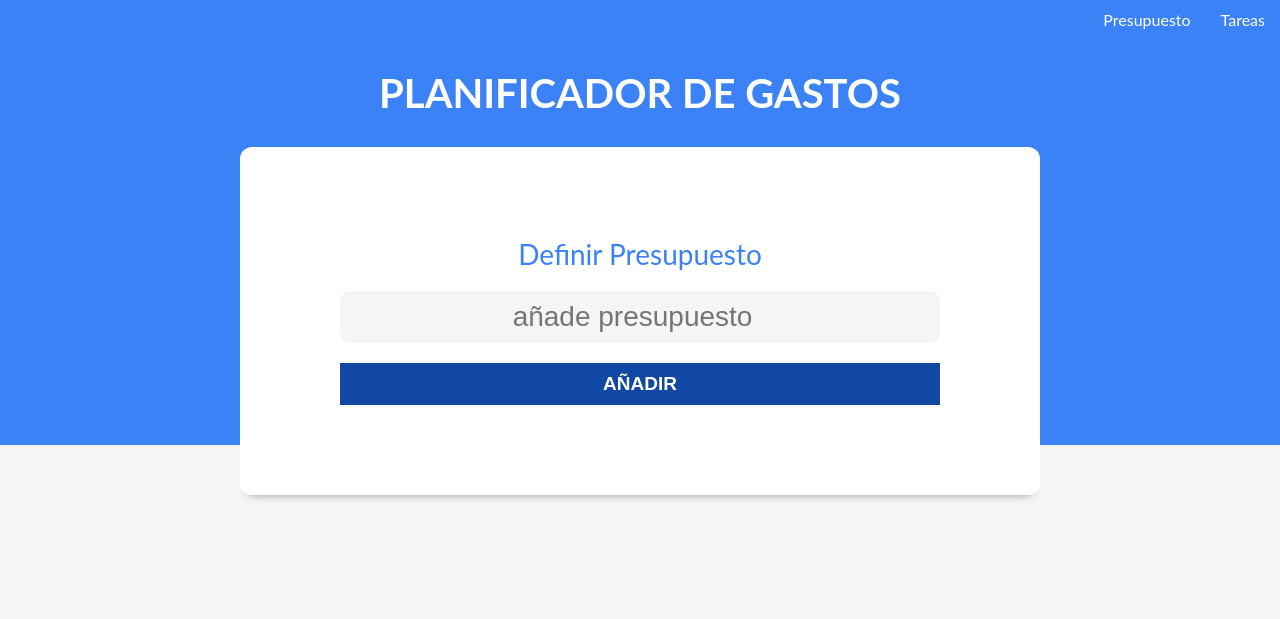
mostrar elementos en la pantalla inicio › mensaje error campo presupuesto vacio
Click the button "Añadir" at {"x": 640, "y": 384}, box [340,363,940,405]
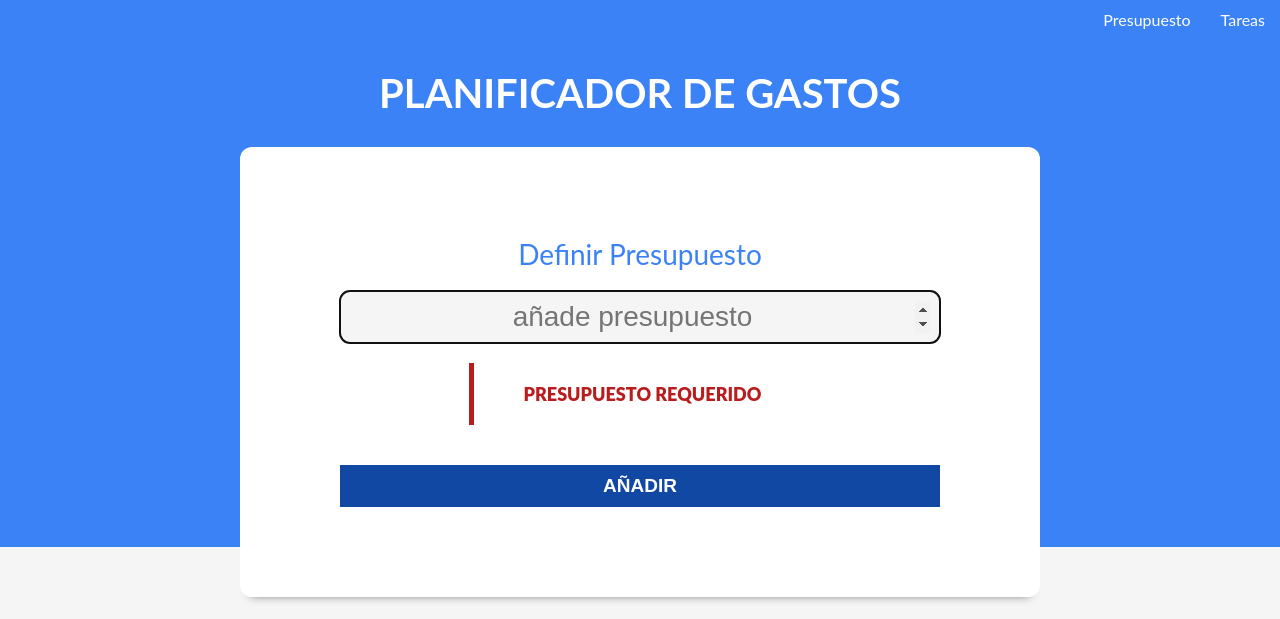
Result: the text "Presupuesto requerido" is shown at [468,363,811,425]
